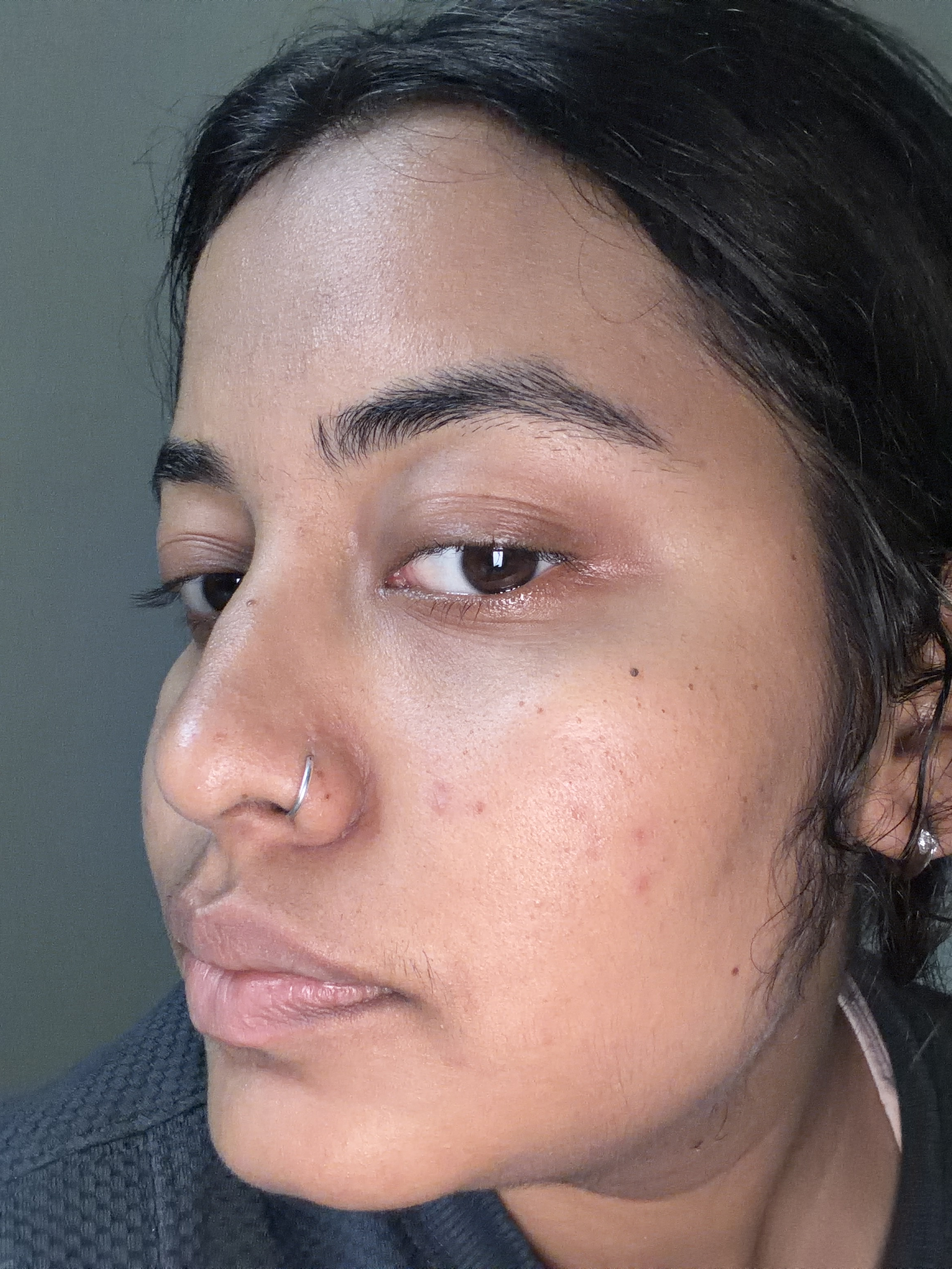papule: (425, 775, 463, 824)
